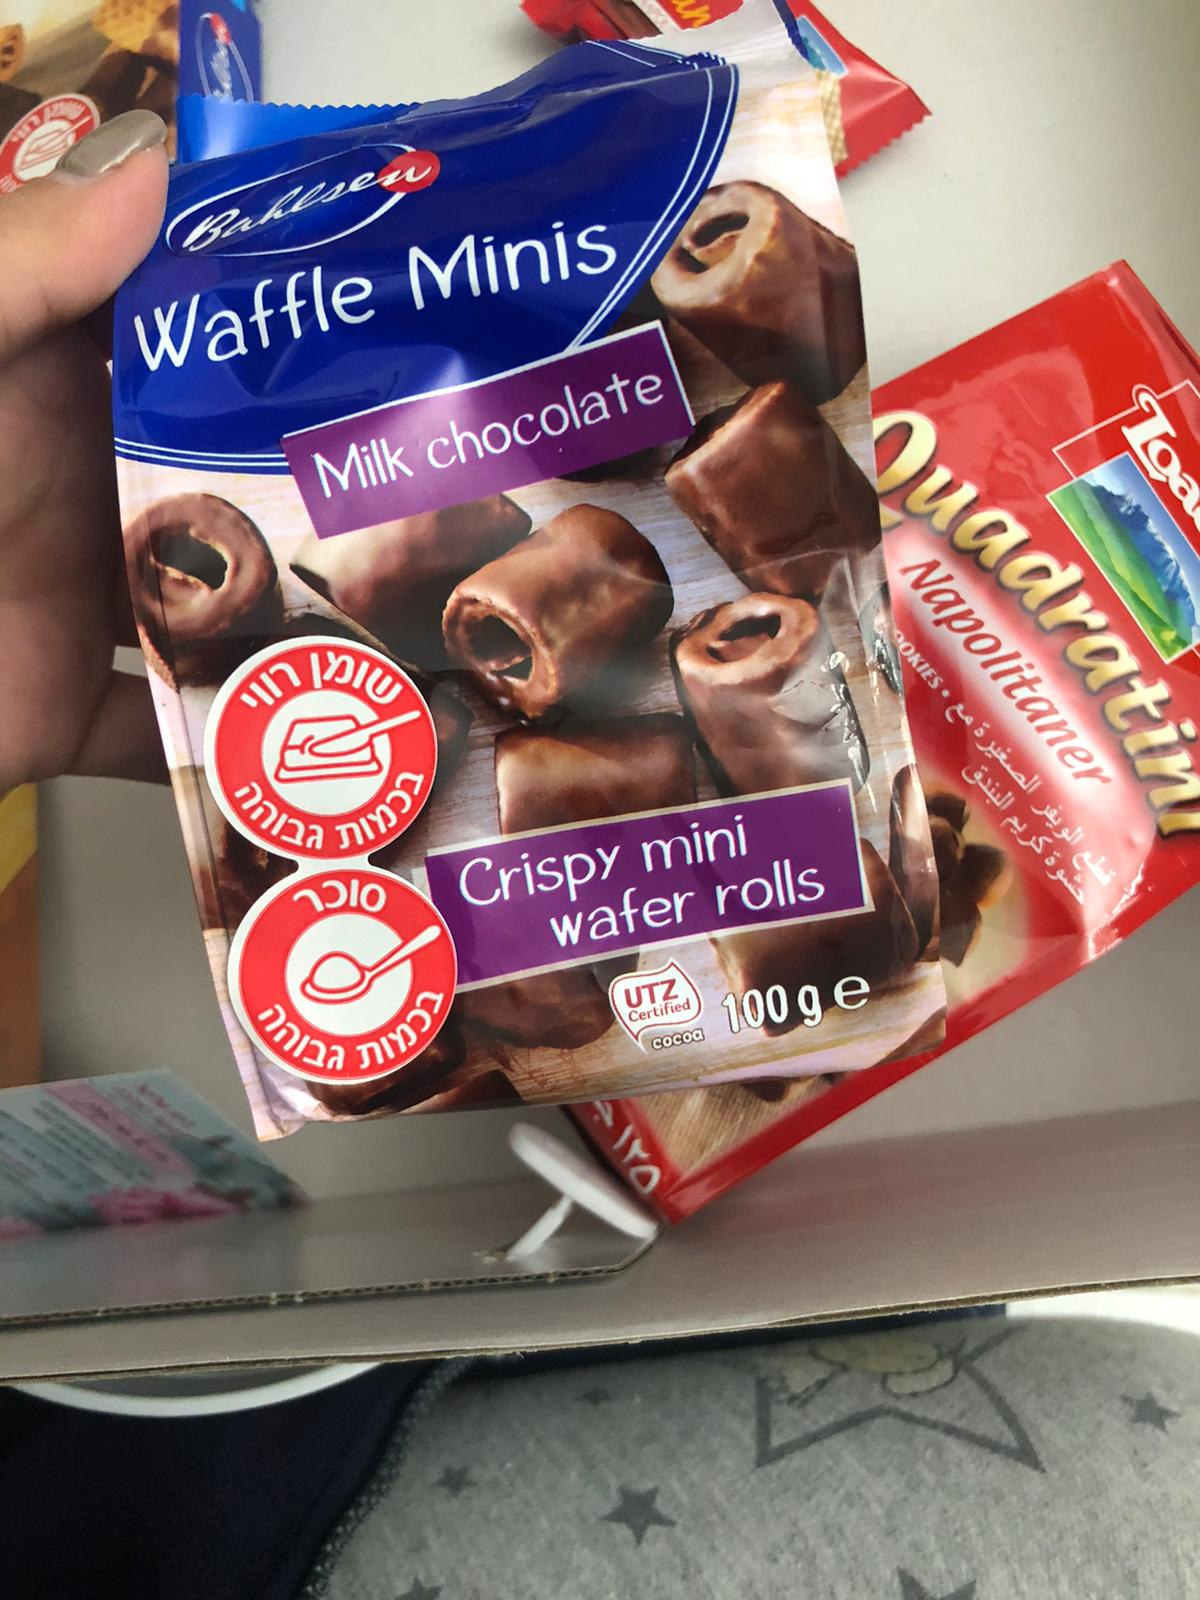fat: (200, 635, 439, 866)
sugar: (222, 871, 458, 1089)
